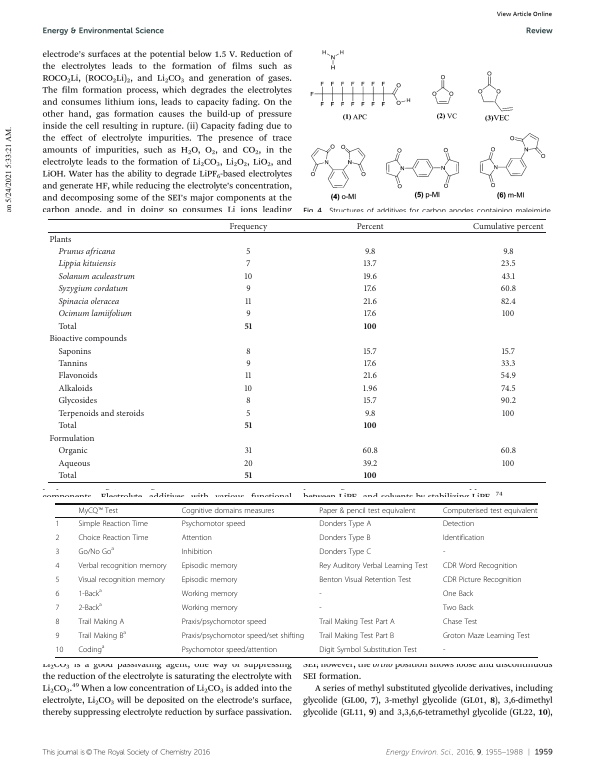borderless: (46, 217, 546, 482), (55, 502, 538, 657)
cell: (181, 631, 305, 641), (318, 561, 429, 571), (318, 645, 418, 655), (181, 645, 278, 655), (57, 408, 145, 419), (318, 575, 412, 585), (77, 561, 167, 571), (77, 575, 166, 585), (442, 631, 531, 641), (318, 506, 416, 515), (48, 333, 128, 344), (57, 271, 136, 282), (442, 506, 538, 515), (181, 617, 267, 627), (181, 506, 275, 515), (57, 308, 133, 319), (442, 575, 523, 585), (472, 221, 545, 232), (318, 617, 396, 627), (318, 631, 395, 641), (442, 561, 518, 571), (77, 519, 149, 529), (77, 533, 149, 543), (57, 284, 129, 294), (57, 296, 120, 307), (181, 519, 246, 529), (57, 246, 116, 257), (77, 629, 127, 641), (57, 259, 117, 269), (181, 589, 239, 599), (181, 603, 239, 613), (181, 561, 238, 571), (181, 575, 238, 585), (318, 519, 372, 529), (318, 547, 372, 557), (318, 533, 371, 543), (48, 433, 95, 444), (77, 617, 125, 627), (77, 545, 115, 557), (442, 533, 485, 543), (229, 221, 268, 232), (57, 371, 99, 381), (57, 396, 98, 406), (57, 383, 94, 394), (77, 506, 119, 515), (57, 458, 91, 469), (442, 617, 478, 627), (57, 445, 89, 456), (57, 346, 92, 356), (57, 358, 88, 369), (77, 643, 105, 655), (442, 519, 475, 529), (181, 533, 213, 543), (181, 547, 213, 557), (442, 589, 474, 599), (442, 603, 474, 613), (356, 221, 385, 232), (77, 587, 103, 599), (77, 601, 103, 613), (48, 234, 72, 244), (57, 321, 78, 332), (57, 470, 78, 481), (57, 421, 78, 431), (500, 296, 517, 307), (500, 383, 517, 394), (362, 445, 379, 456), (500, 445, 517, 456), (362, 271, 378, 282), (362, 296, 378, 307), (500, 358, 516, 369), (362, 383, 378, 394), (362, 458, 378, 469), (500, 259, 517, 269), (500, 284, 517, 294), (500, 371, 517, 381), (500, 396, 517, 406), (501, 271, 516, 282), (362, 371, 378, 381), (363, 308, 377, 319), (501, 308, 515, 319), (363, 358, 377, 369), (501, 408, 515, 419), (501, 458, 515, 469), (363, 259, 378, 269), (363, 346, 378, 356), (501, 346, 516, 356), (363, 396, 378, 406), (502, 246, 515, 257), (363, 284, 377, 294), (363, 470, 378, 479), (364, 246, 376, 257), (364, 408, 376, 419), (243, 458, 254, 469), (363, 321, 378, 329), (363, 421, 378, 429), (244, 271, 253, 282), (244, 383, 253, 394), (244, 445, 253, 456), (55, 645, 64, 655), (244, 296, 252, 307), (244, 470, 253, 479), (244, 371, 252, 381), (245, 308, 252, 319), (245, 358, 252, 369), (244, 321, 253, 329), (244, 421, 253, 429), (245, 284, 252, 294), (245, 346, 252, 356), (245, 396, 252, 406), (245, 246, 251, 257), (245, 408, 251, 419), (54, 519, 60, 529), (54, 533, 60, 543), (54, 547, 60, 557), (245, 259, 251, 269), (55, 561, 60, 571), (55, 575, 60, 585), (55, 589, 60, 599), (318, 589, 323, 599), (55, 603, 60, 613), (318, 603, 323, 613), (55, 617, 60, 627), (55, 631, 60, 641), (442, 547, 446, 557), (442, 645, 446, 655)
